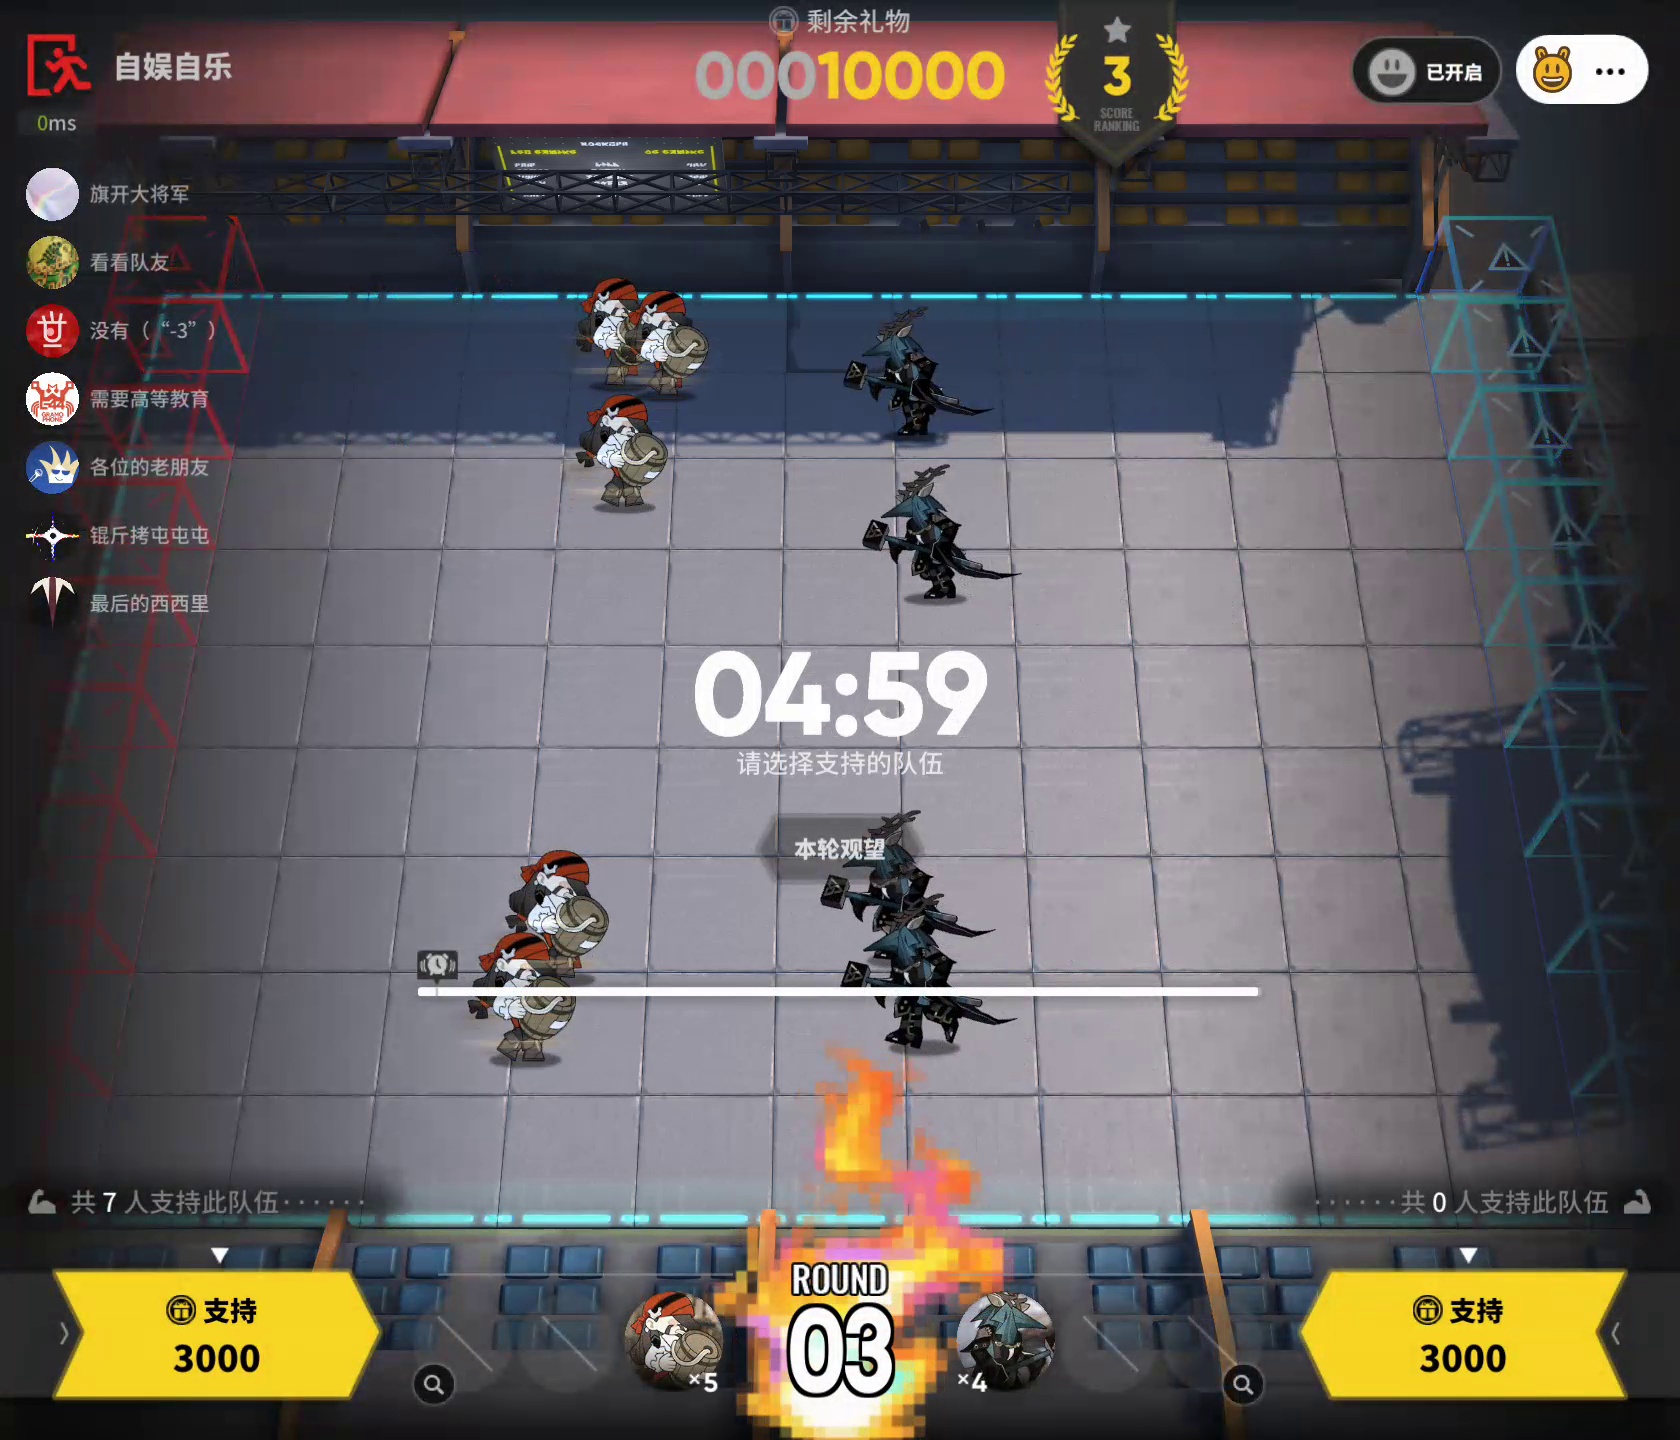假酒海盗: (463, 926, 584, 1061), (499, 837, 617, 976), (569, 387, 674, 514), (626, 1284, 730, 1393), (626, 290, 714, 409), (574, 266, 653, 390)
北方战士: (820, 914, 1029, 1054), (809, 796, 1004, 941), (866, 451, 1027, 611), (836, 299, 1001, 447), (951, 1284, 1063, 1396)
